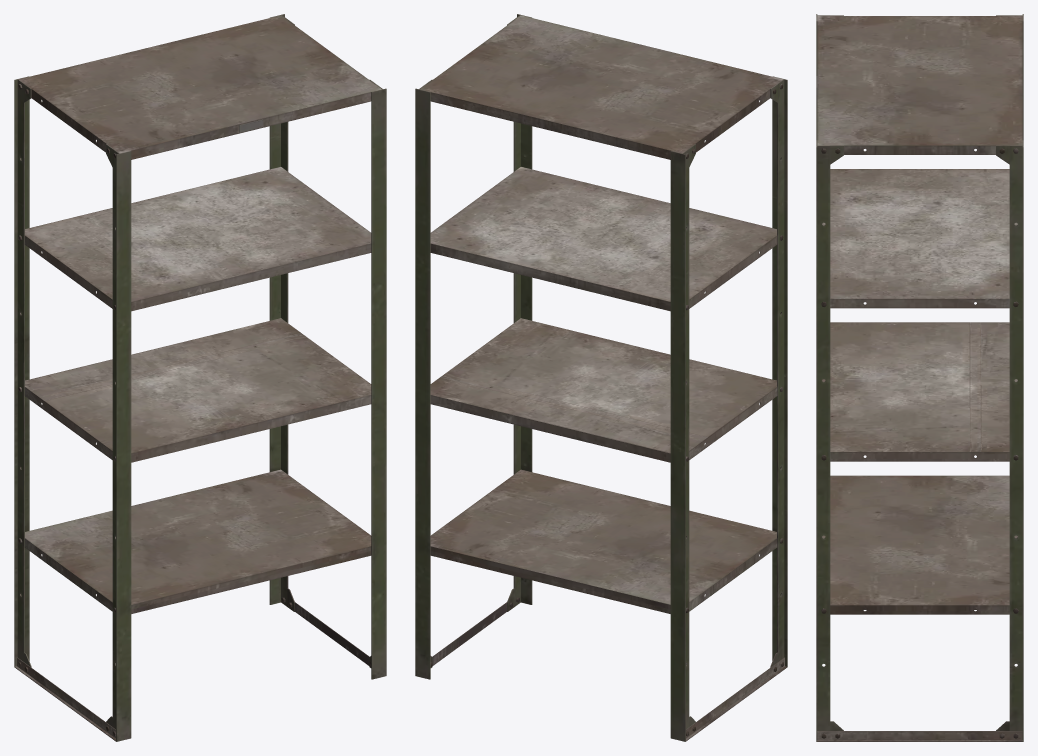
File: worn_metal_rack.glb
3 renders of one model, left to right at view 1: azimuth 30°, elevation 25°; view 2: azimuth 150°, elevation 25°; view 3: azimuth 270°, elevation 25°, orthographic.
Visible parts, largest first — view 1: worn_metal_rack; view 2: worn_metal_rack; view 3: worn_metal_rack.
Boxes of the visible parts, x1,y1,x2,y2 form: worn_metal_rack: (14,14,386,741); worn_metal_rack: (415,14,787,741); worn_metal_rack: (816,14,1023,741).
Size of the model in its own units: 0.9153 by 1.9 by 0.6001.
1 material, 1 textured.
